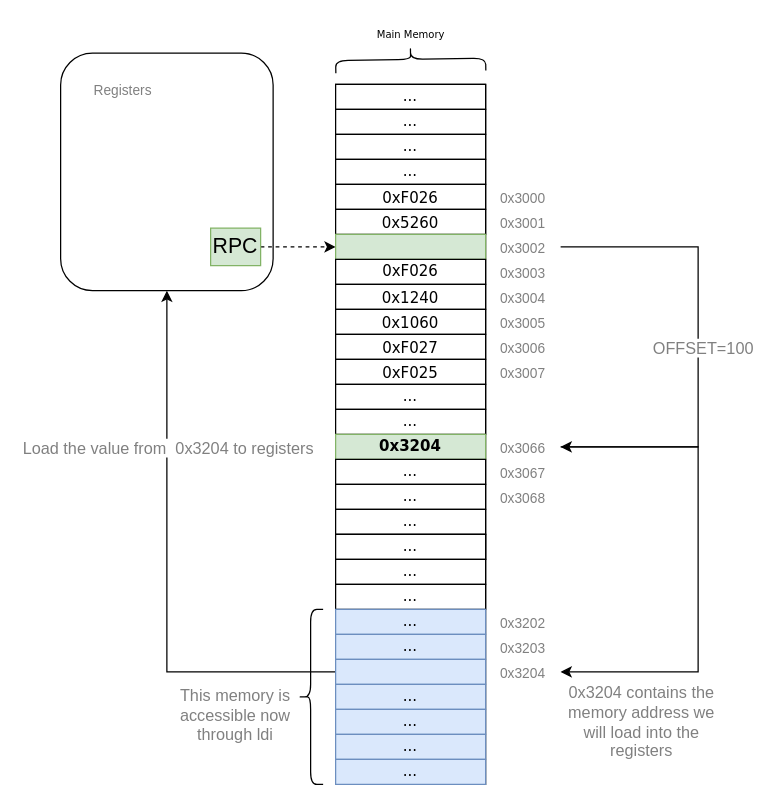
This 774x806 diagram has some shape labels left out. The centre of each missing label's shape, as x and y in pixels:
0x0001: the point at 410,671
ldi DR 100: the point at 410,246
